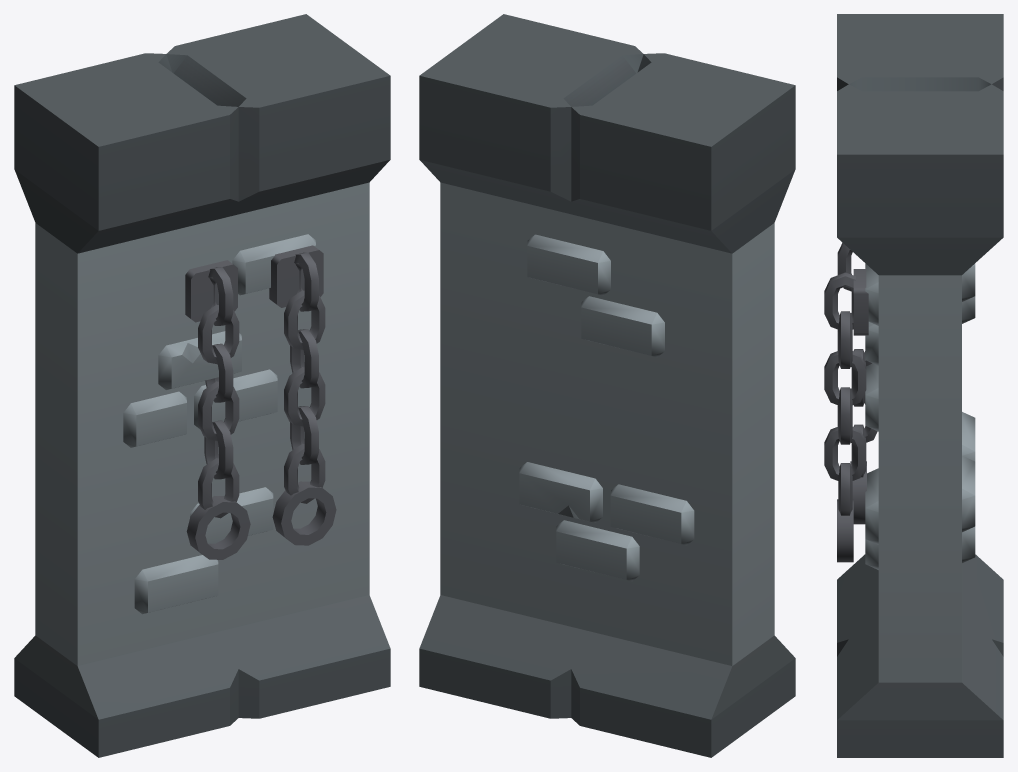
The model's file is wall_prison_half_A.glb.
The picture shows the model from 3 angles, left to right: view 1: azimuth 30°, elevation 25°; view 2: azimuth 150°, elevation 25°; view 3: azimuth 270°, elevation 25°; orthographic projection.
Visible parts, largest first — view 1: Item; view 2: Item; view 3: Item.
Boxes of the visible parts, left/top/right/bottom form: Item: left=14, top=14, right=390, bottom=757; Item: left=419, top=14, right=795, bottom=757; Item: left=824, top=14, right=1003, bottom=757.
Size of the model in its own units: 2 by 4 by 1.08.
2 materials, 2 textured.
